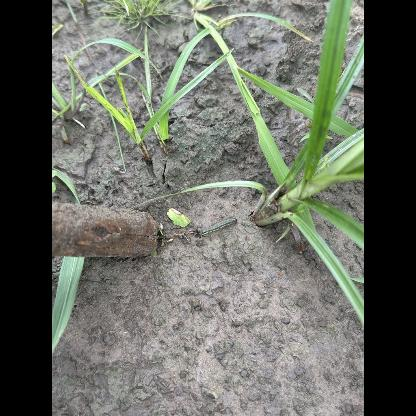Fall Armyworm Larvae: (197, 218, 239, 240)
